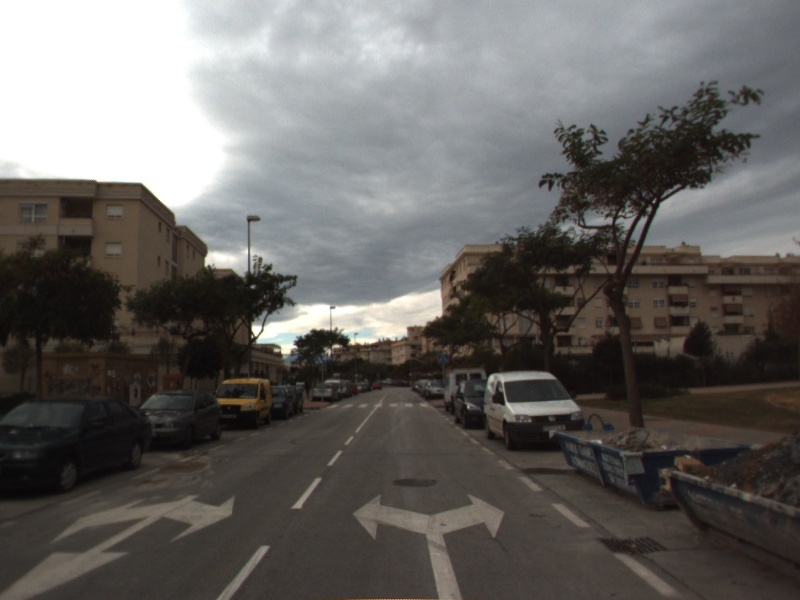LEFT_RIGHT: (349, 489, 508, 600)
